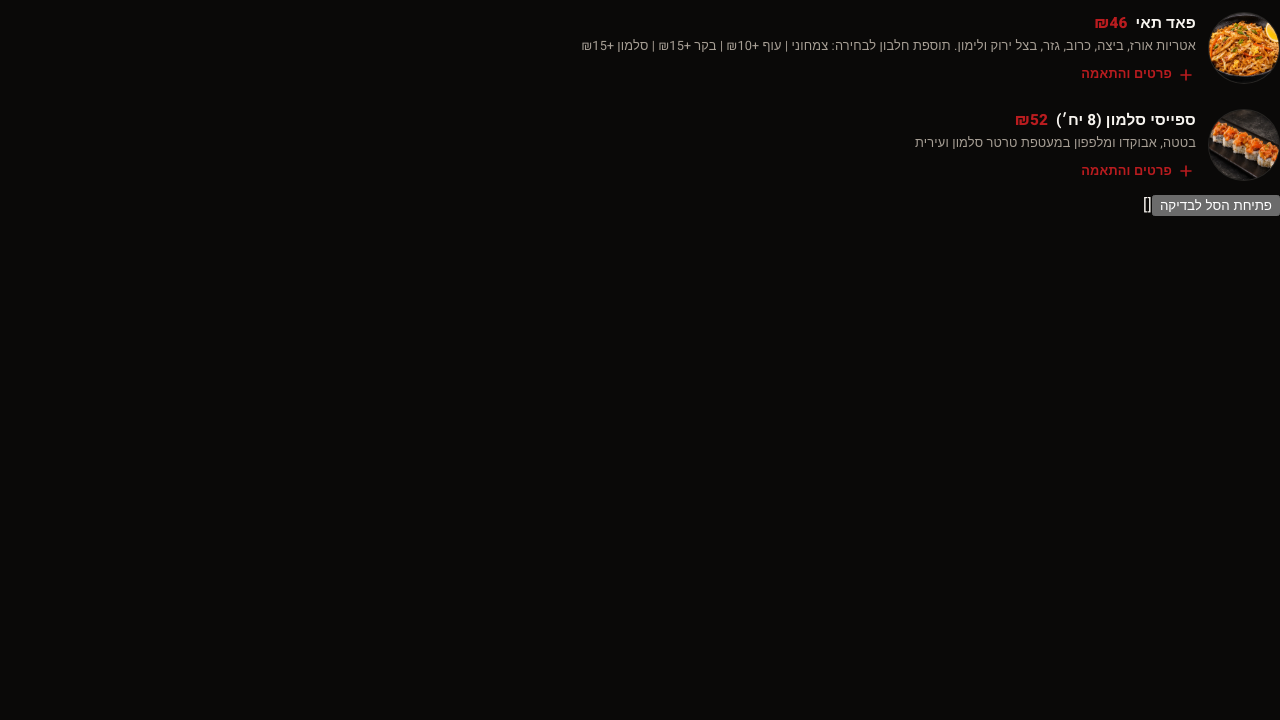
it: dish dialog and checkout UI › allows viewing details while closed and blocks adding
This screenshot has width=1280, height=720.
Click the button with aria-label "פרטים והתאמה: ספייסי סלמון (8 יח׳)": [1098, 145] box [915,109,1279,181]
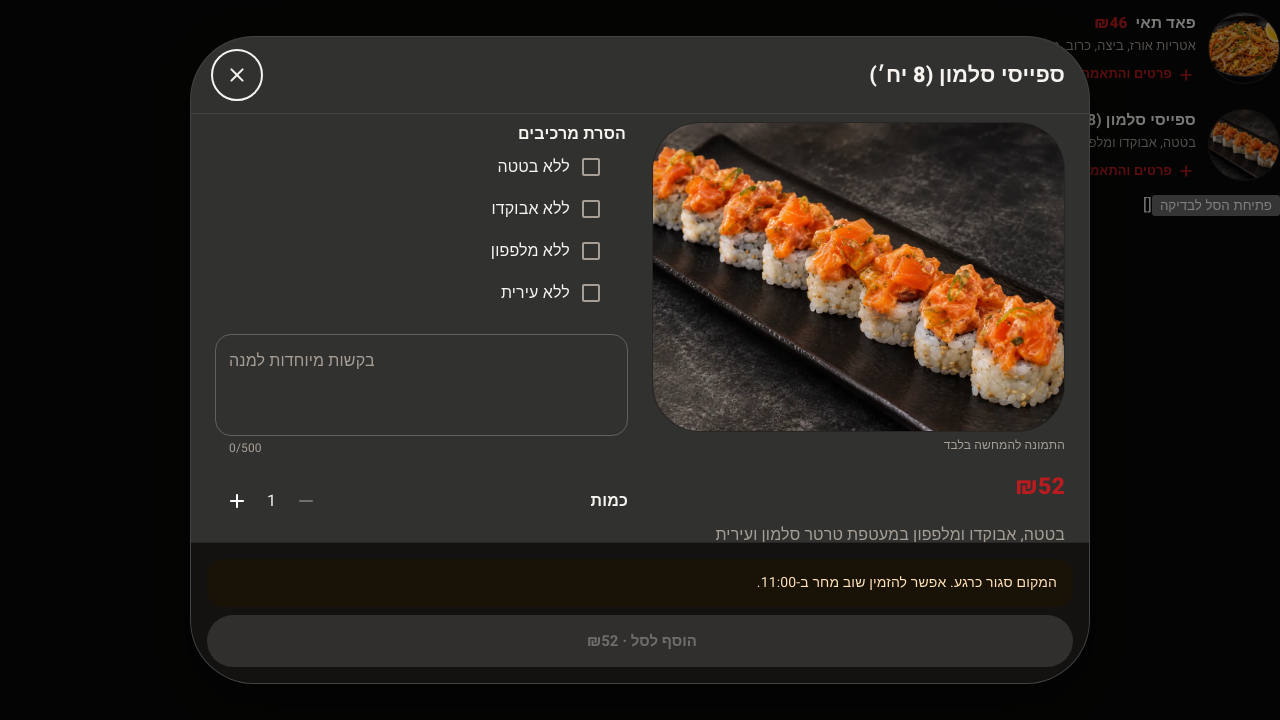
Expected: the dialog "ספייסי סלמון (8 יח׳)" is shown
Expected: the button "הוסף לסל · ₪52" is disabled, [207,615,1073,667]
